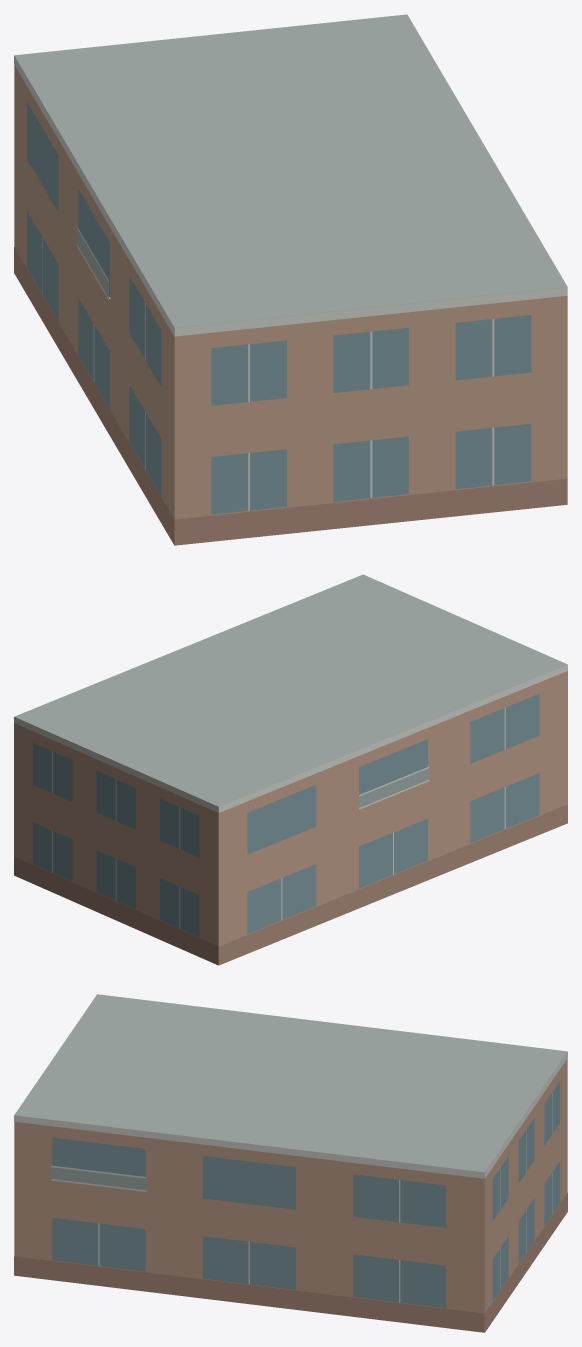
File: survey-upis-32903968.glb
3 renders of one model, top to bottom at view 1: azimuth 30°, elevation 25°; view 2: azimuth 150°, elevation 25°; view 3: azimuth 270°, elevation 25°, orthographic. The views are drawn at different scales.
Visible parts, largest first — view 1: survey-upis-32903968.tmp; view 2: survey-upis-32903968.tmp; view 3: survey-upis-32903968.tmp.
Part boxes in pixels (x1,y1,x2,y2): survey-upis-32903968.tmp: (14, 14, 567, 545); survey-upis-32903968.tmp: (14, 574, 567, 965); survey-upis-32903968.tmp: (14, 994, 567, 1332).
Size of the model in its own units: 14.56 by 6.1 by 19.11.
